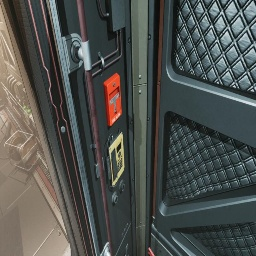0: (27, 105, 36, 129), (23, 102, 30, 125)
EmergencyPhone ,: (107, 128, 125, 188)
FireAlarm ,: (103, 73, 122, 126)
FireExtinguisher ]: (148, 247, 155, 256)
